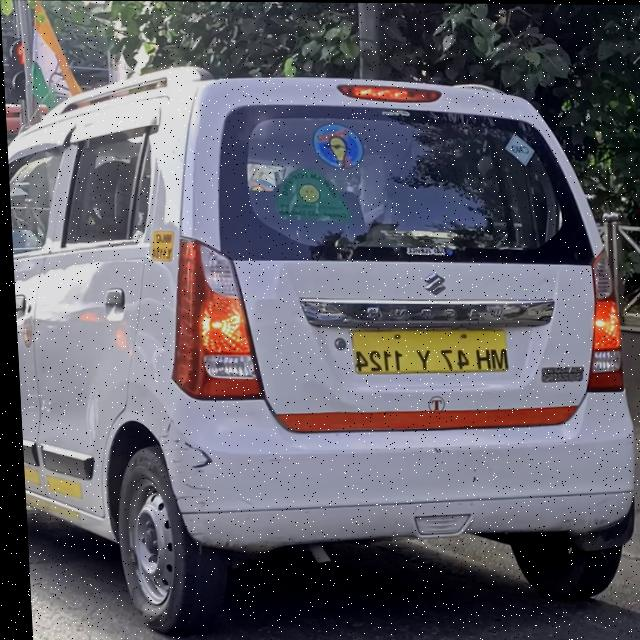plate: (347, 326, 507, 375)
